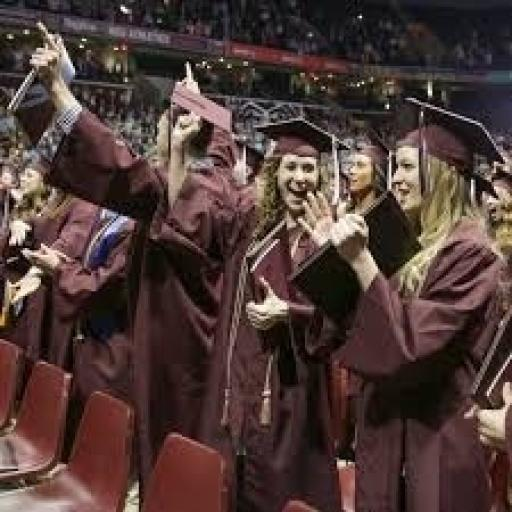clapping: (273, 91, 512, 512)
